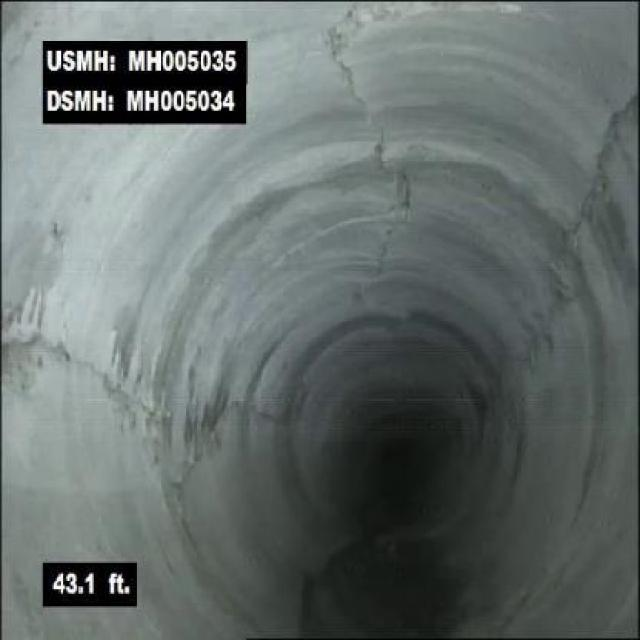Buckling: (320, 0, 420, 89)
Crack: (556, 92, 638, 280), (3, 328, 142, 418), (358, 94, 416, 209)
